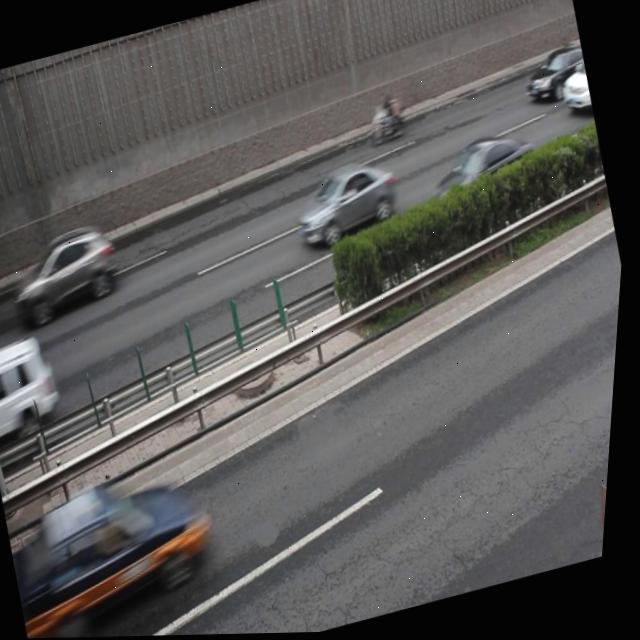car: (40, 469, 230, 636), (7, 221, 129, 325), (293, 159, 404, 249), (426, 130, 542, 213), (521, 47, 593, 110)
truck: (0, 332, 69, 440)
